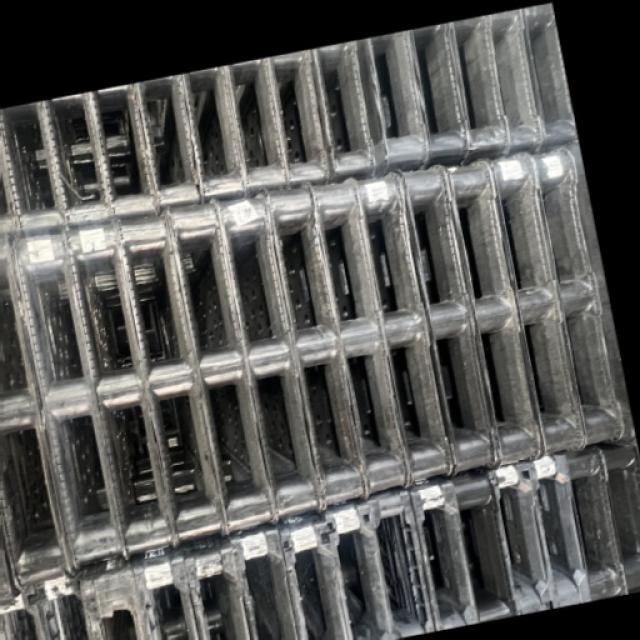igps: (5, 203, 133, 578), (155, 192, 290, 541), (104, 199, 236, 552), (57, 209, 185, 566), (200, 183, 331, 528), (253, 175, 374, 520), (298, 171, 419, 505), (342, 164, 462, 496), (387, 153, 505, 487), (436, 149, 550, 471), (482, 146, 595, 462), (525, 141, 630, 448), (0, 225, 84, 597), (361, 477, 440, 640), (407, 466, 483, 635), (522, 446, 597, 617), (448, 460, 519, 631), (484, 452, 556, 620), (321, 490, 401, 640), (561, 444, 633, 608), (90, 76, 160, 230), (314, 29, 382, 185), (518, 0, 584, 158), (268, 37, 334, 192), (0, 93, 69, 241), (449, 6, 510, 169), (50, 84, 116, 234), (140, 68, 203, 220), (367, 22, 428, 176), (489, 0, 546, 161), (182, 59, 241, 208), (280, 504, 344, 640), (410, 15, 468, 164), (227, 50, 283, 201), (230, 516, 298, 640), (597, 436, 639, 607), (143, 534, 195, 640), (193, 526, 240, 640), (92, 547, 141, 640), (41, 555, 91, 640)
